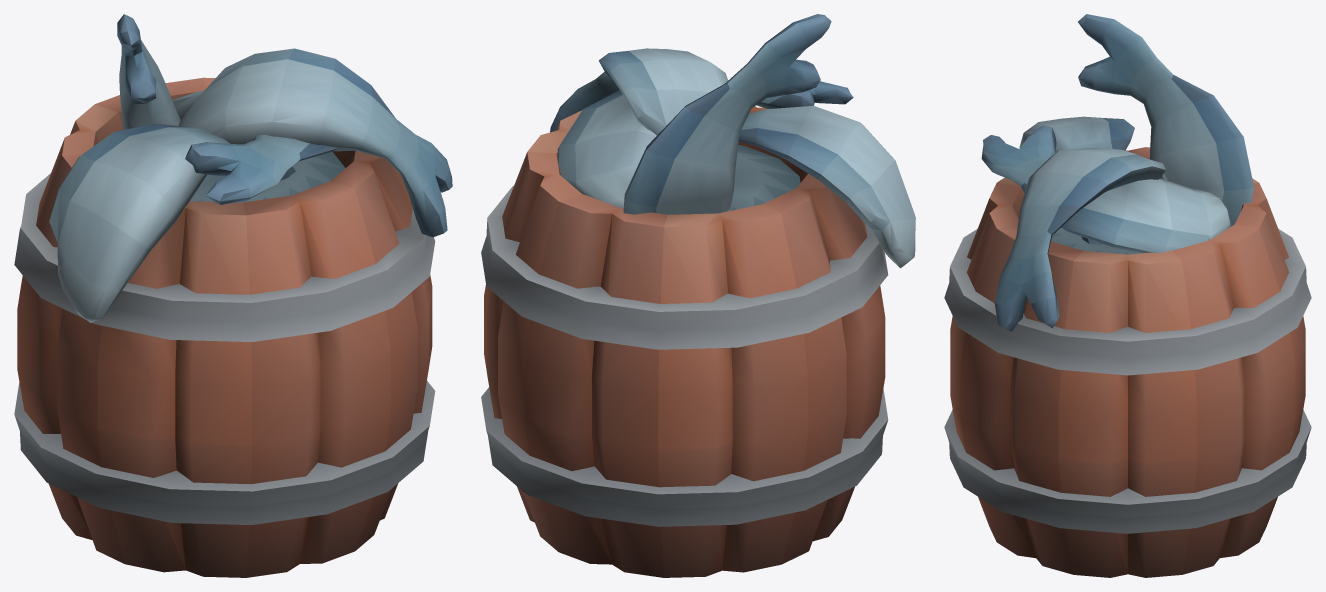
File: prop_barrel_fish.glb
3 renders of one model, left to right at view 1: azimuth 30°, elevation 25°; view 2: azimuth 150°, elevation 25°; view 3: azimuth 270°, elevation 25°, orthographic. The views are drawn at different scales.
Parts seen in each view (by area): view 1: refined; view 2: refined; view 3: refined.
Part boxes in pixels (x1,y1,x2,y2): refined: [14, 14, 452, 577]; refined: [481, 14, 915, 577]; refined: [944, 14, 1311, 577].
Bounding box in the file's own units: 1.29 × 1.71 × 1.25.
